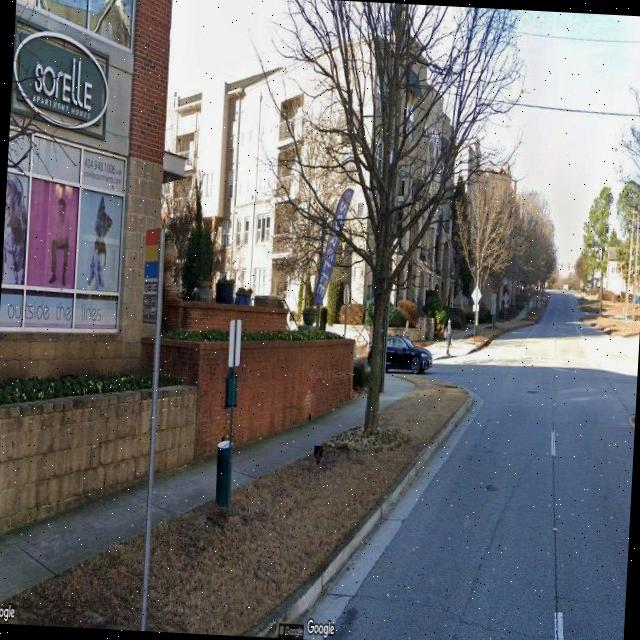trash_can: (215, 440, 233, 506)
